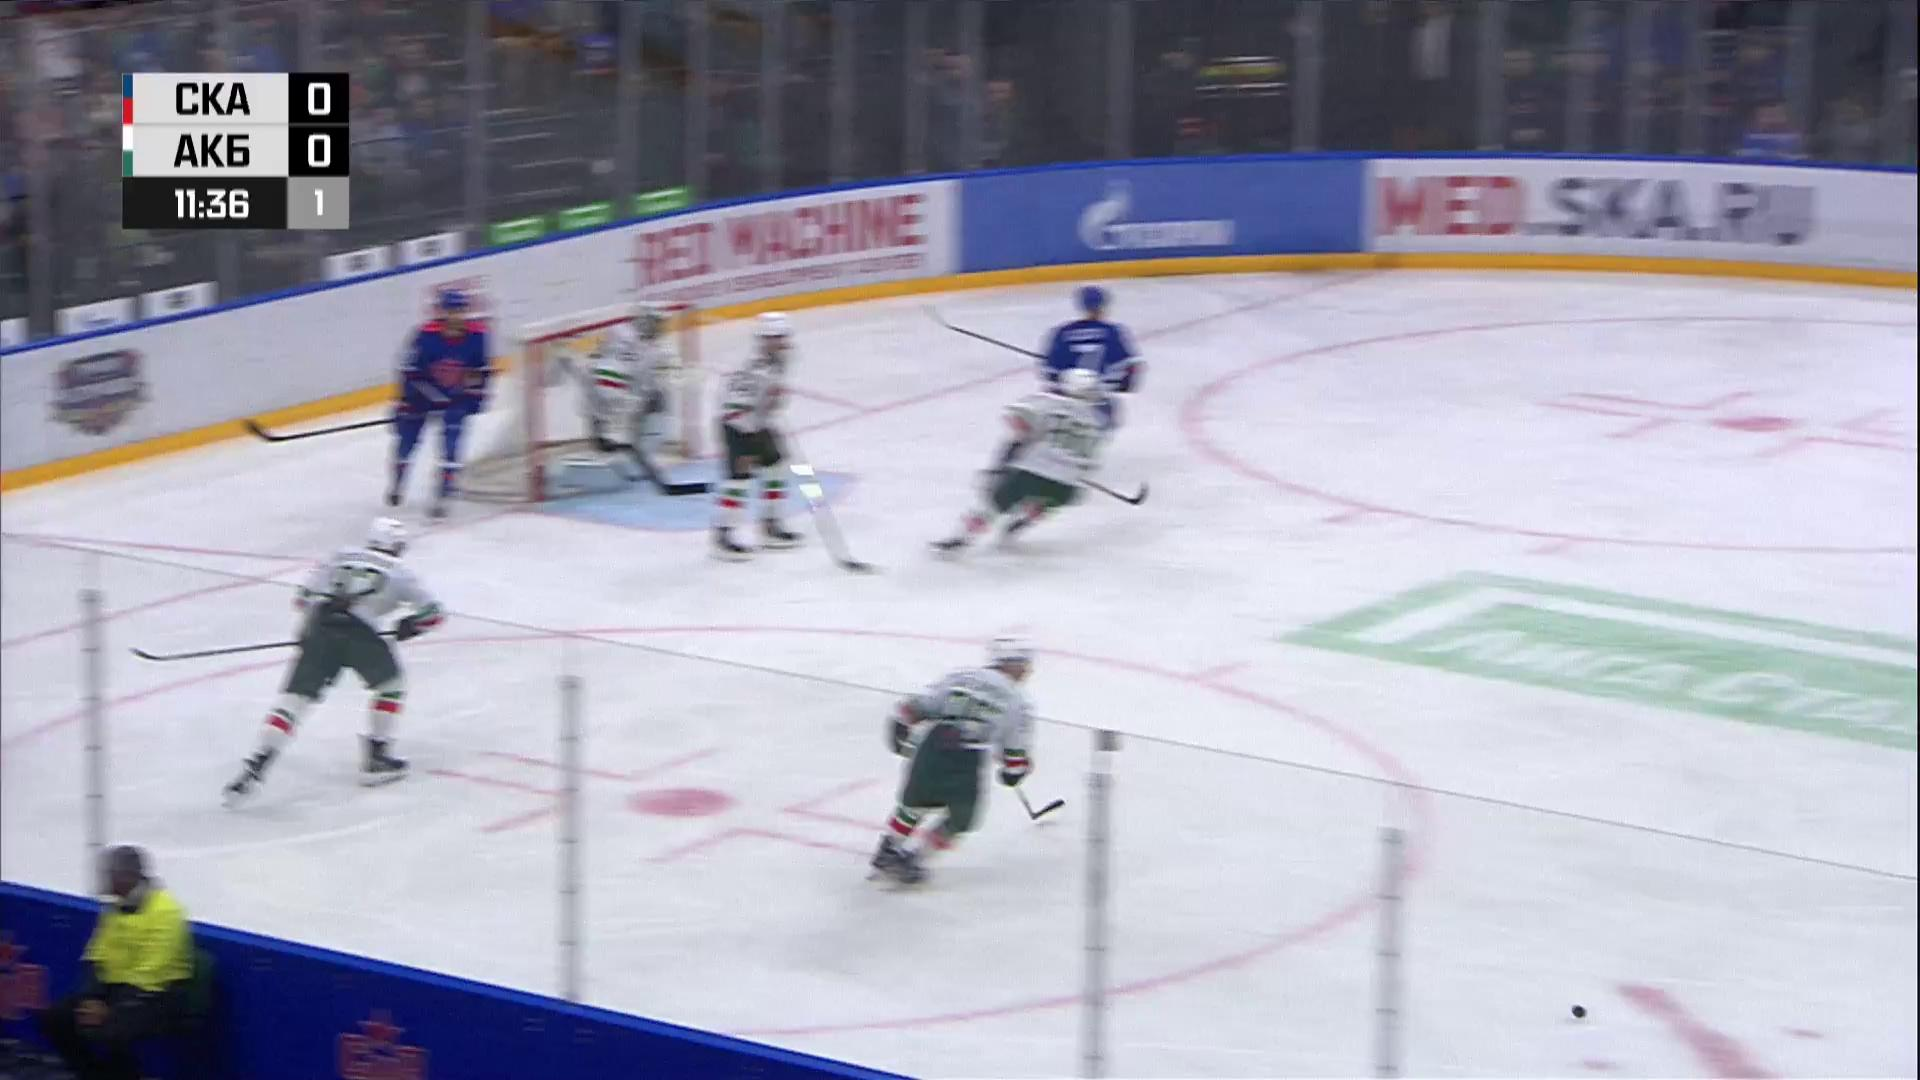ball: (1571, 1006, 1586, 1018)
